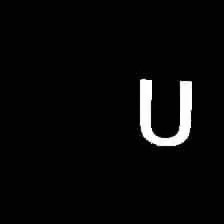LTR_U: (132, 74, 196, 151)
